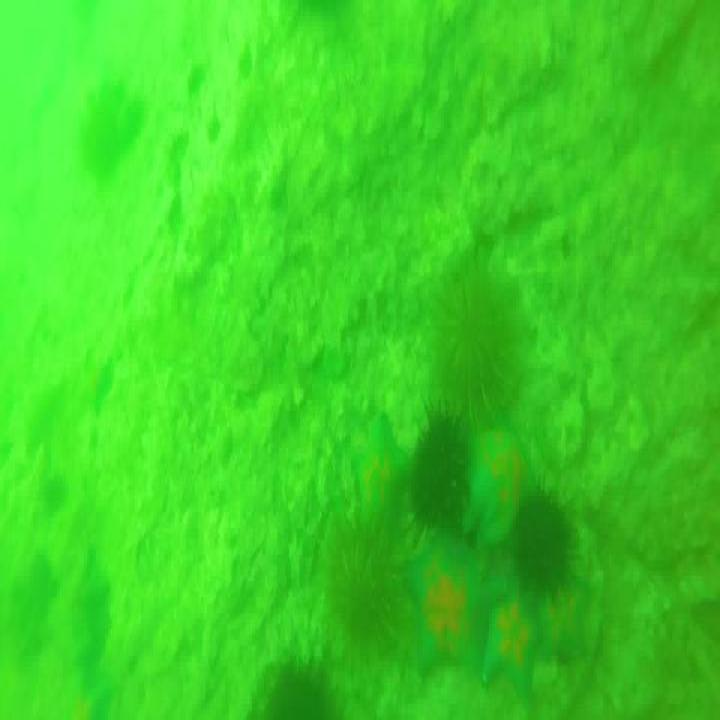echinus: (437, 247, 521, 425), (409, 400, 471, 540), (511, 494, 574, 603)
starfish: (400, 542, 512, 672), (482, 606, 536, 695)
